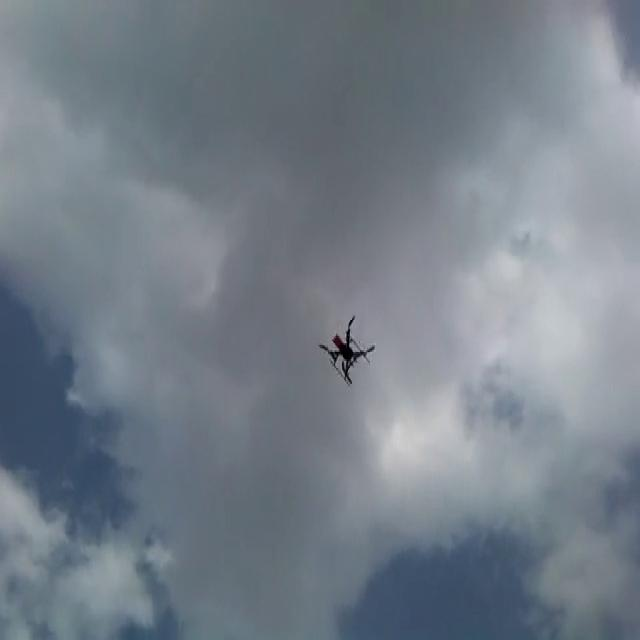drone: (316, 311, 375, 386)
